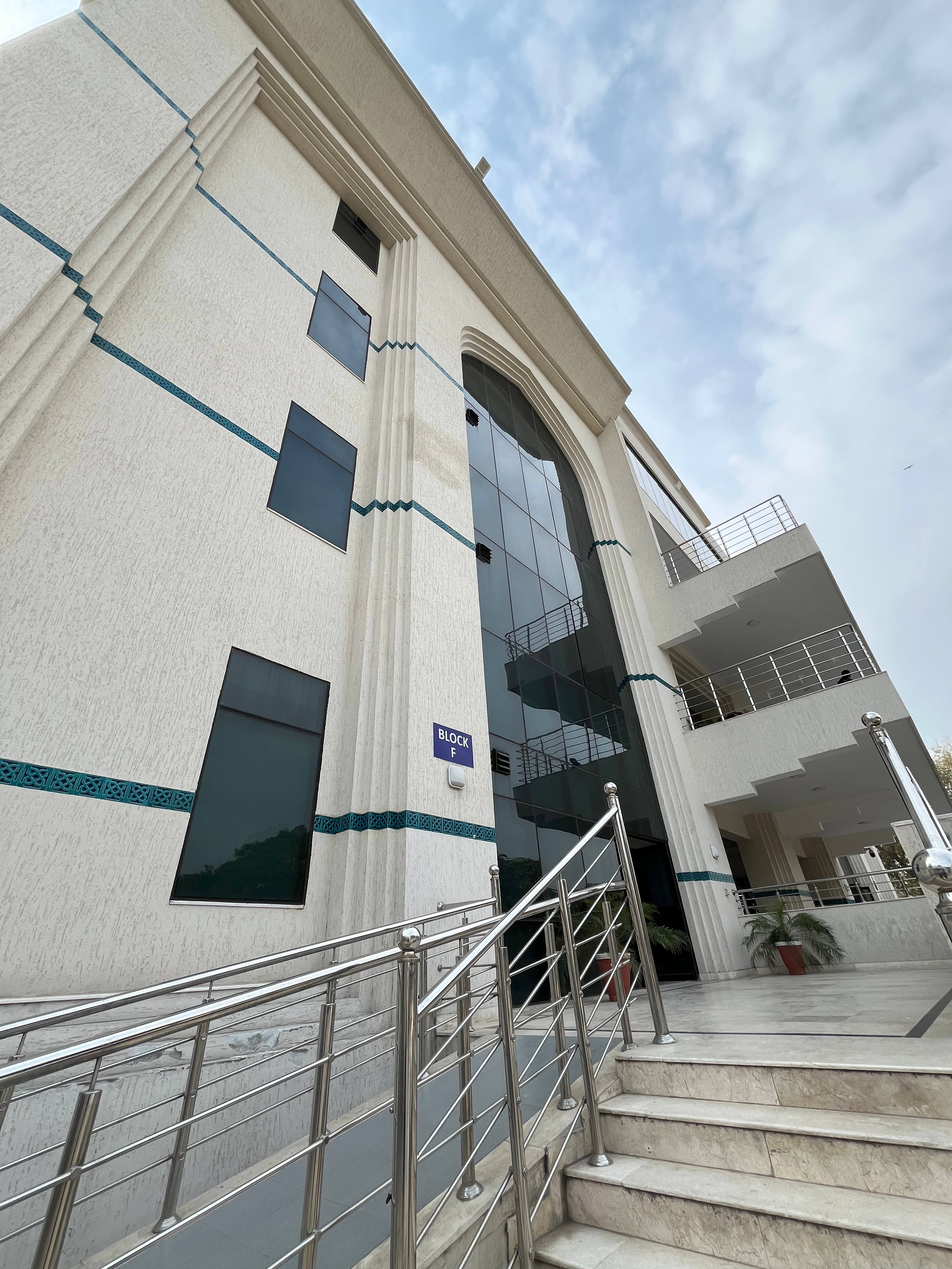Block F: (6, 2, 952, 1257)
